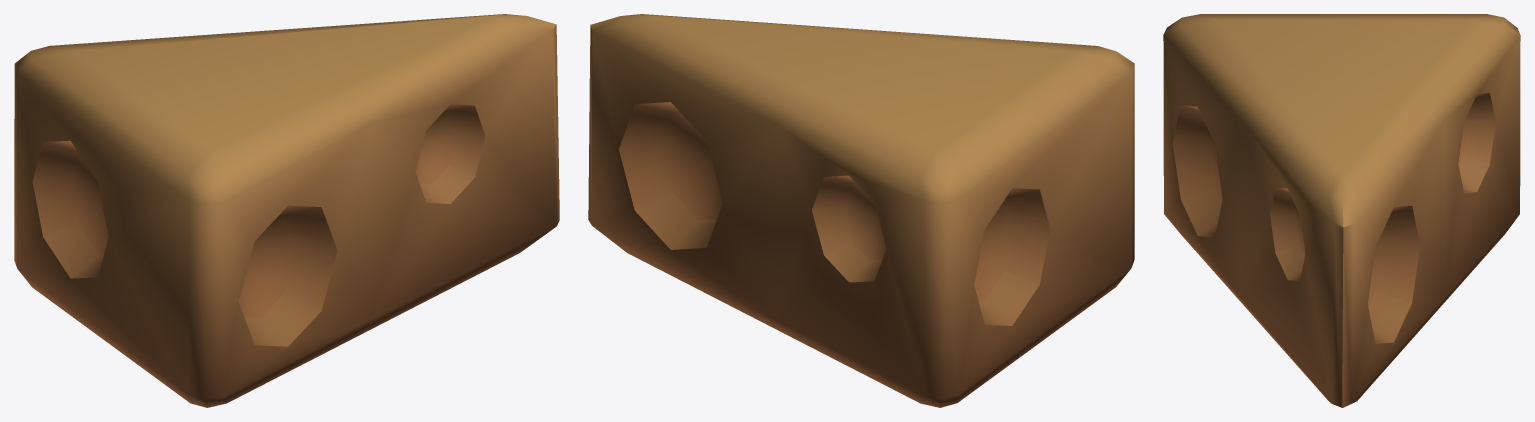
File: food-ingredient-cheese.glb
3 renders of one model, left to right at view 1: azimuth 30°, elevation 25°; view 2: azimuth 150°, elevation 25°; view 3: azimuth 270°, elevation 25°, orthographic. The views are drawn at different scales.
Visible parts, largest first — view 1: food-ingredient-cheese; view 2: food-ingredient-cheese; view 3: food-ingredient-cheese.
Boxes of the visible parts, x1,y1,x2,y2 form: food-ingredient-cheese: (14, 14, 559, 407); food-ingredient-cheese: (588, 14, 1134, 407); food-ingredient-cheese: (1163, 14, 1520, 407).
Size of the model in its own units: 0.2344 by 0.12 by 0.1733.
